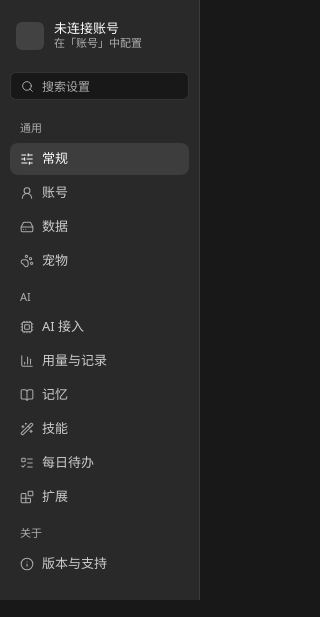
Test case: SettingsNav search results › renders hits as kit ListItem rows (h42, title + location) inside the listbox
In the dropdown labelled "搜索设置": (112, 86) x1=42 y1=73 x2=182 y2=99, type "模型"
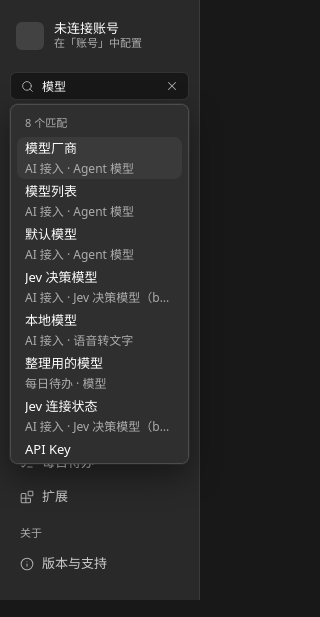
Result: the number of options is 8
Result: the text "模型厂商" is shown at x1=25 y1=138 x2=77 y2=156
Result: the text "AI 接入 · Agent 模型" below "模型厂商" is shown at x1=25 y1=160 x2=134 y2=176
